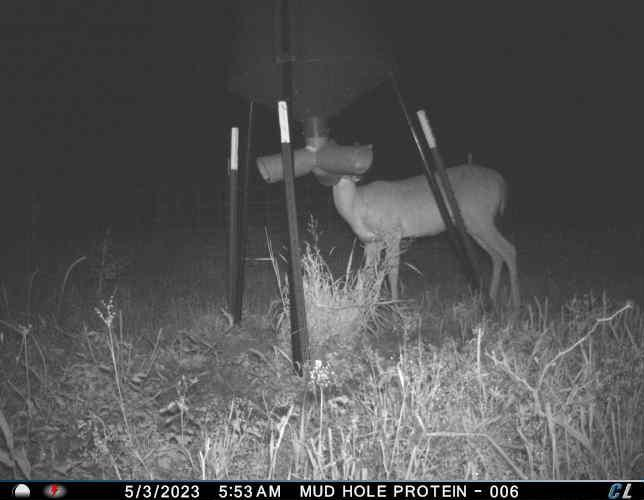Deer: (330, 162, 520, 323)
